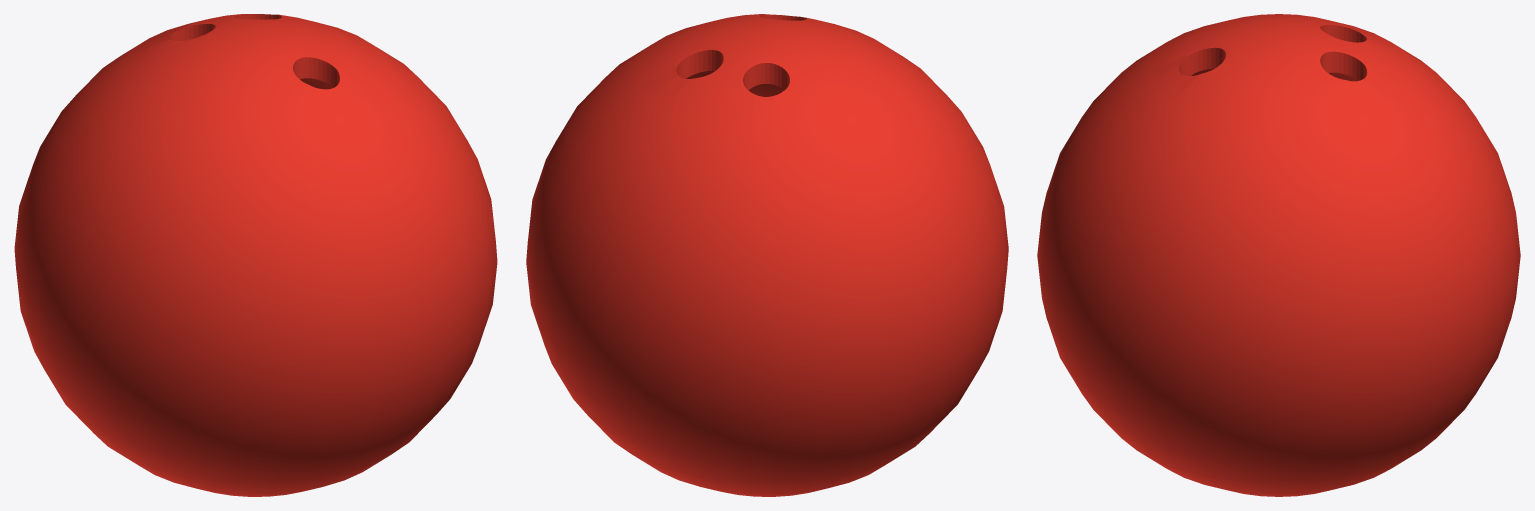
The model's file is Bowling Ball.fbx.
The picture shows the model from 3 angles, left to right: view 1: azimuth 30°, elevation 25°; view 2: azimuth 150°, elevation 25°; view 3: azimuth 270°, elevation 25°; orthographic projection.
Parts seen in each view (by area): view 1: Bowling Ball; view 2: Bowling Ball; view 3: Bowling Ball.
Part boxes in pixels (bbox=[...]): Bowling Ball: bbox=[14, 14, 497, 496]; Bowling Ball: bbox=[526, 14, 1008, 496]; Bowling Ball: bbox=[1037, 14, 1520, 496].
Size of the model in its own units: 0.2183 by 0.2183 by 0.2183.
